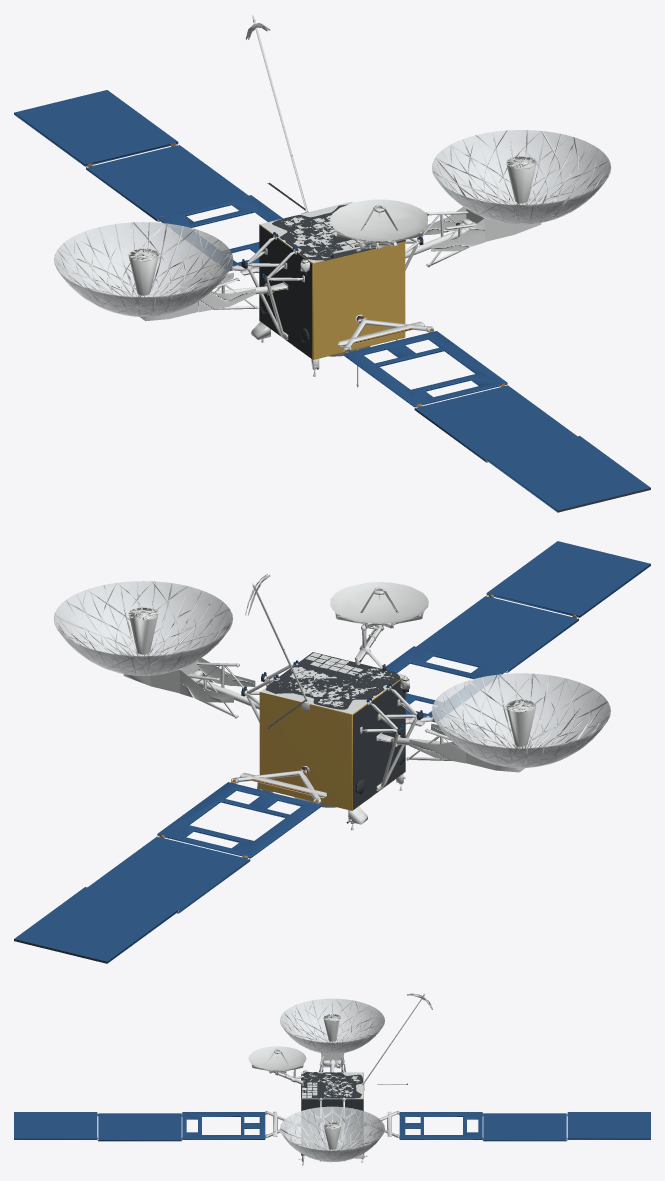
Rendered from tdrs_nasa_mobile.glb.
The picture shows the model from 3 angles, top to bottom: view 1: azimuth 30°, elevation 25°; view 2: azimuth 150°, elevation 25°; view 3: azimuth 270°, elevation 25°; orthographic projection. The views are drawn at different scales.
Visible parts, largest first — view 1: mainbody; view 2: mainbody; view 3: mainbody.
Boxes of the visible parts, bbox=[...] form: mainbody: bbox=[14, 15, 650, 512]; mainbody: bbox=[14, 541, 650, 963]; mainbody: bbox=[14, 993, 650, 1166].
Size of the model in its own units: 1.71 by 0.9144 by 3.02.
